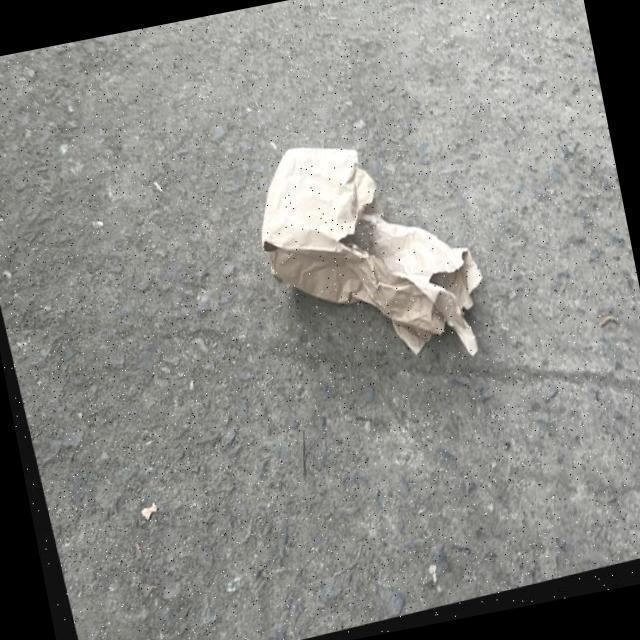Paper_Bag: (244, 110, 495, 408)
